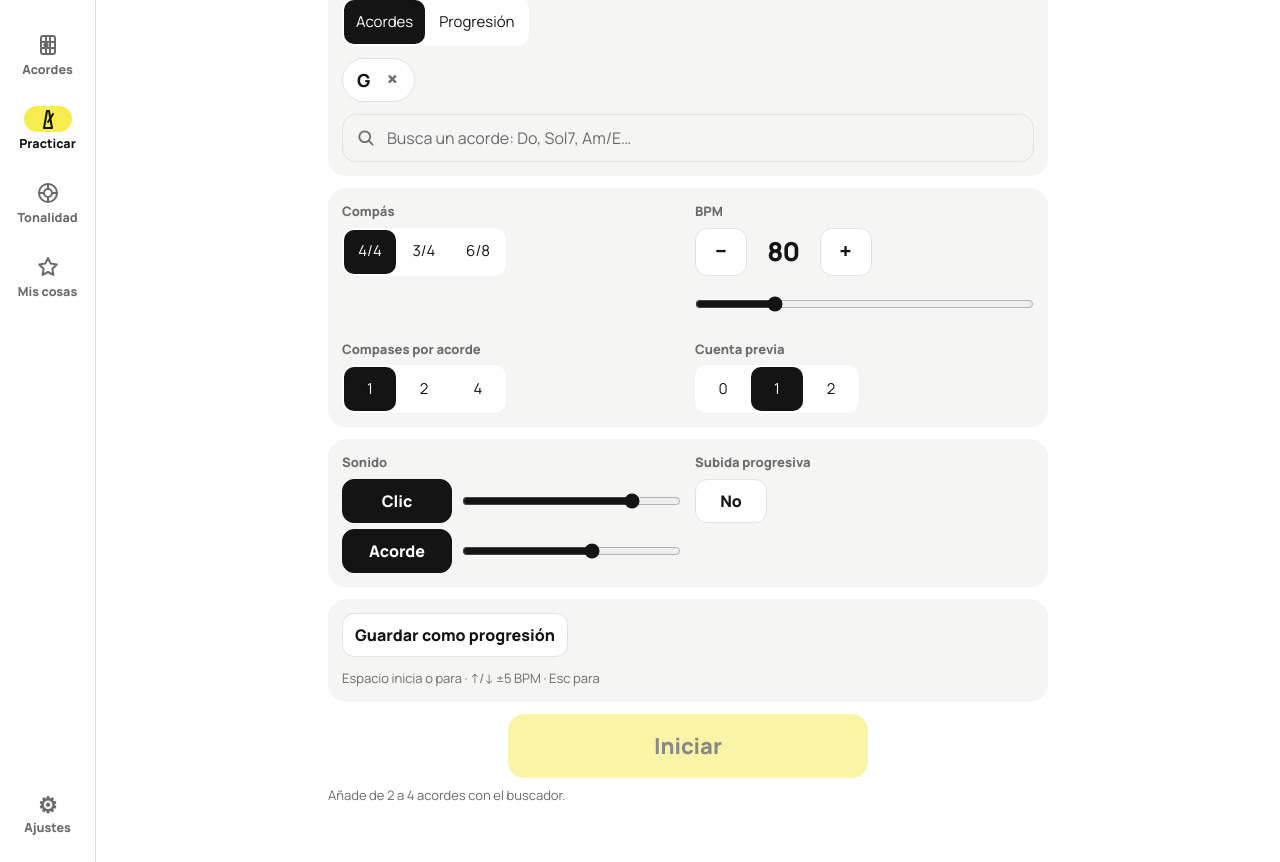
Scenario: pantalla Practicar › modo manual: Iniciar desactivado con menos de 2 acordes (y espacio no inicia)
(page scrolled)
Expected: the button "Iniciar" is disabled, 508,714 -> 868,778
Expected: the text "Añade de 2 a 4 acordes con el buscador." is shown, 328,786 -> 566,804
Step 1. Type keys " "
Step 2. Type "c" into the search field → (688, 138), box 342,114 -> 1034,162
Then press Enter
(page scrolled)
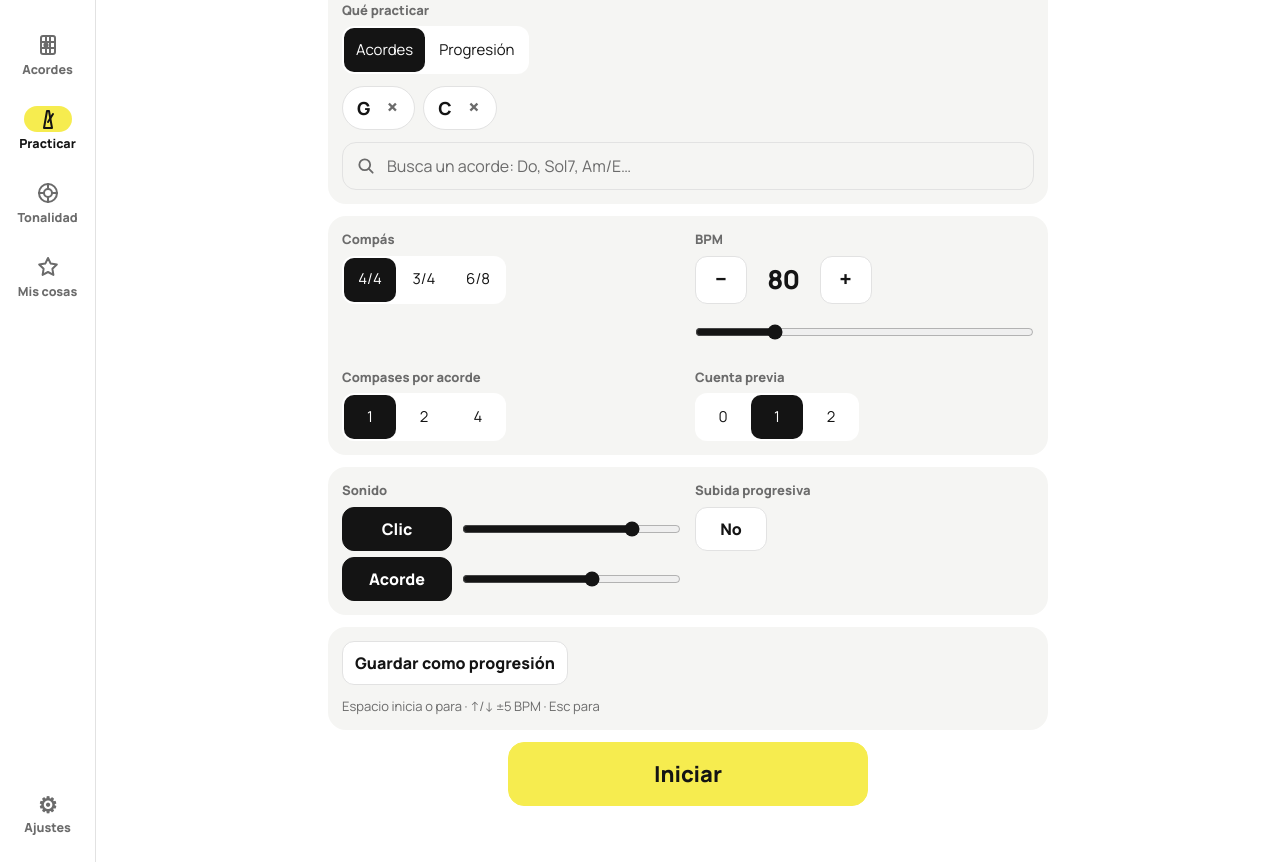
Result: the button "Iniciar" is enabled at 508,742 -> 868,806
